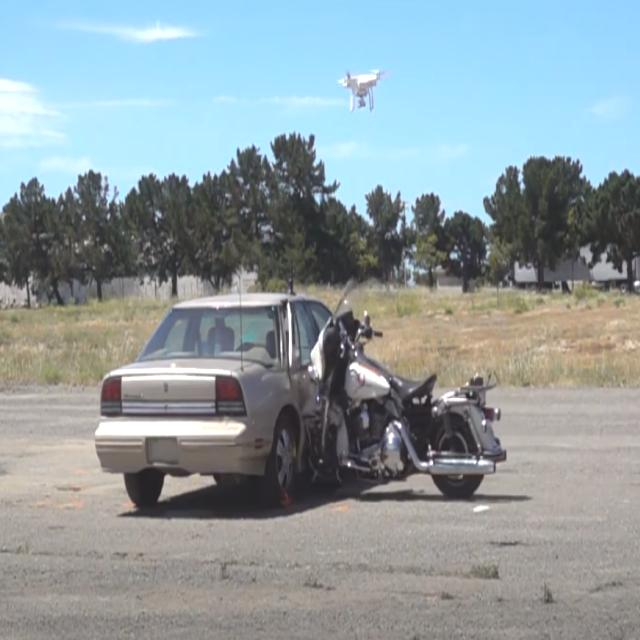accident: (93, 285, 510, 517)
